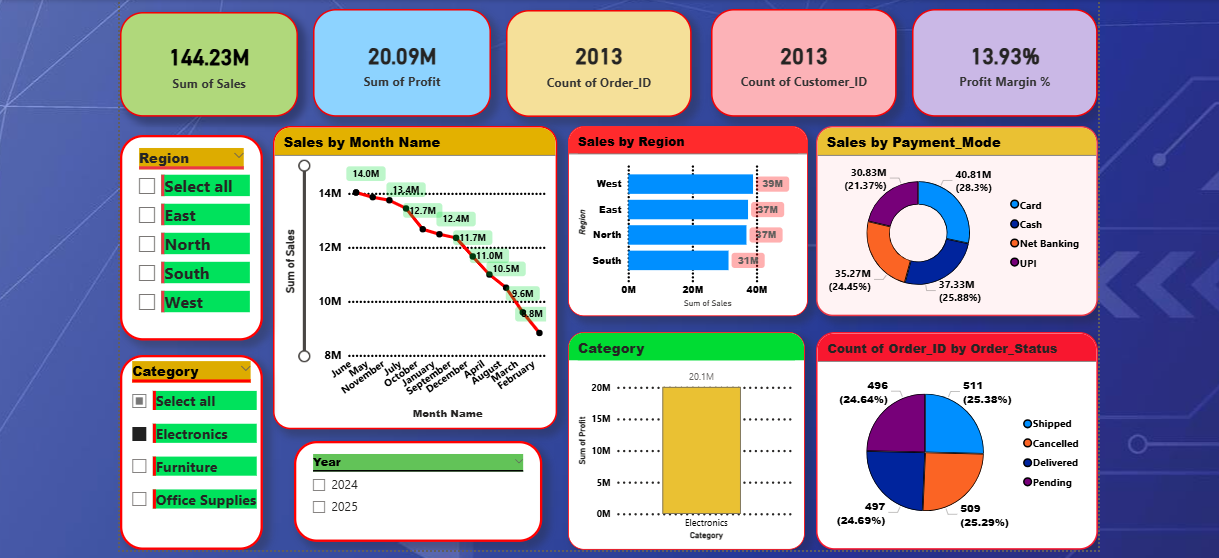

Layout of this report page (visuals, bound fields, positions):
{"tool":"powerbi","page":{"name":"Page 1","canvas":[1280,720],"ordinal":0},"visuals":[{"type":"card","fields":{"Values":["Sum(Nova_Retail_Sales_Dataset_5000.Sales)"]},"box":[0,15.8,233.3,136.8],"z":0},{"type":"card","fields":{"Values":["Sum(Nova_Retail_Sales_Dataset_5000.Profit)"]},"box":[252,11.5,233.3,141.1],"z":1000},{"type":"card","fields":{"Values":["CountNonNull(Nova_Retail_Sales_Dataset_5000.Order_ID)"]},"box":[505.4,13,243.4,139.7],"z":2000},{"type":"card","fields":{"Values":["CountNonNull(Nova_Retail_Sales_Dataset_5000.Customer_ID)"]},"box":[773.3,11.5,243.4,141.1],"z":3000},{"type":"card","fields":{"Values":["Nova_Retail_Sales_Dataset_5000.Profit Margin %"]},"box":[1036.8,11.5,243.4,141],"z":4000},{"type":"lineChart","title":"Sales by Month Name","fields":{"Category":["Nova_Retail_Sales_Dataset_5000.Month Name"],"Y":["Sum(Nova_Retail_Sales_Dataset_5000.Sales)"]},"box":[200.2,165.6,371.5,397.4],"z":5000},{"type":"clusteredBarChart","title":"Sales by Region","fields":{"Category":["Nova_Retail_Sales_Dataset_5000.Region"],"Y":["Sum(Nova_Retail_Sales_Dataset_5000.Sales)"]},"box":[586.1,165.6,313.9,249.1],"z":6000},{"type":"clusteredColumnChart","title":"Category","fields":{"Category":["Nova_Retail_Sales_Dataset_5000.Category"],"Y":["Sum(Nova_Retail_Sales_Dataset_5000.Profit)"]},"box":[586.1,434.9,309.6,285.1],"z":7000},{"type":"donutChart","title":"Sales by Payment_Mode","fields":{"Category":["Nova_Retail_Sales_Dataset_5000.Payment_Mode"],"Y":["Sum(Nova_Retail_Sales_Dataset_5000.Sales)"]},"box":[911.5,165.6,368.6,249.1],"z":8000},{"type":"pieChart","fields":{"Category":["Nova_Retail_Sales_Dataset_5000.Order_Status"],"Y":["CountNonNull(Nova_Retail_Sales_Dataset_5000.Order_ID)"]},"box":[911.3,434.9,368.6,285.1],"z":9000},{"type":"slicer","fields":{"Values":["Nova_Retail_Sales_Dataset_5000.Region"]},"box":[0,177.1,187.2,269.3],"z":10000},{"type":"slicer","fields":{"Values":["Nova_Retail_Sales_Dataset_5000.Year"]},"box":[227.5,577.4,325.4,132.5],"z":11000},{"type":"slicer","fields":{"Values":["Nova_Retail_Sales_Dataset_5000.Category"]},"box":[0,465.1,187,255],"z":12000}]}

Visuals, with their boxes in screenshot pixels (x1, y1, x2, y2):
card - Sum(Nova_Retail_Sales_Dataset_5000.Sales): BBox(114, 9, 293, 114)
card - Sum(Nova_Retail_Sales_Dataset_5000.Profit): BBox(307, 6, 486, 114)
card - CountNonNull(Nova_Retail_Sales_Dataset_5000.Order_ID): BBox(501, 7, 687, 114)
card - CountNonNull(Nova_Retail_Sales_Dataset_5000.Customer_ID): BBox(706, 6, 892, 114)
card - Nova_Retail_Sales_Dataset_5000.Profit Margin %: BBox(908, 6, 1094, 114)
"Sales by Month Name" lineChart: BBox(267, 124, 552, 428)
"Sales by Region" clusteredBarChart: BBox(563, 124, 803, 314)
"Category" clusteredColumnChart: BBox(563, 330, 800, 548)
"Sales by Payment_Mode" donutChart: BBox(812, 124, 1094, 314)
pieChart - Nova_Retail_Sales_Dataset_5000.Order_Status x CountNonNull(Nova_Retail_Sales_Dataset_5000.Order_ID): BBox(812, 330, 1094, 548)
slicer - Nova_Retail_Sales_Dataset_5000.Region: BBox(114, 132, 258, 338)
slicer - Nova_Retail_Sales_Dataset_5000.Year: BBox(288, 439, 537, 540)
slicer - Nova_Retail_Sales_Dataset_5000.Category: BBox(114, 353, 257, 548)
